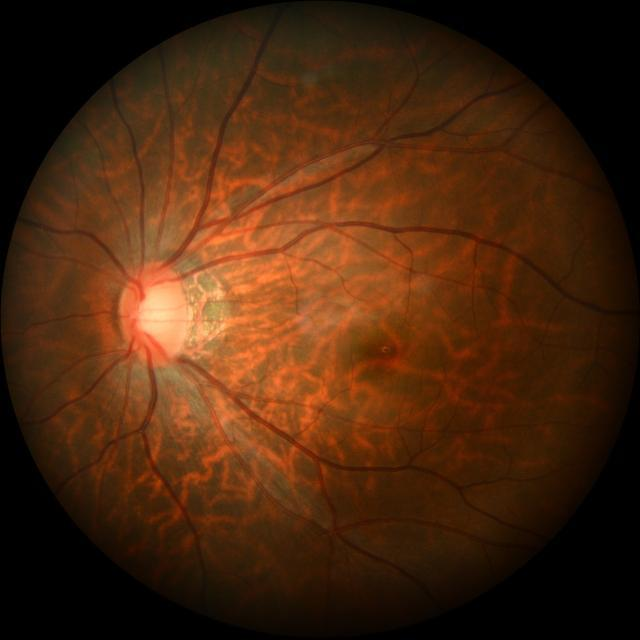OC: (131, 280, 175, 344)
OD: (119, 260, 187, 364)
